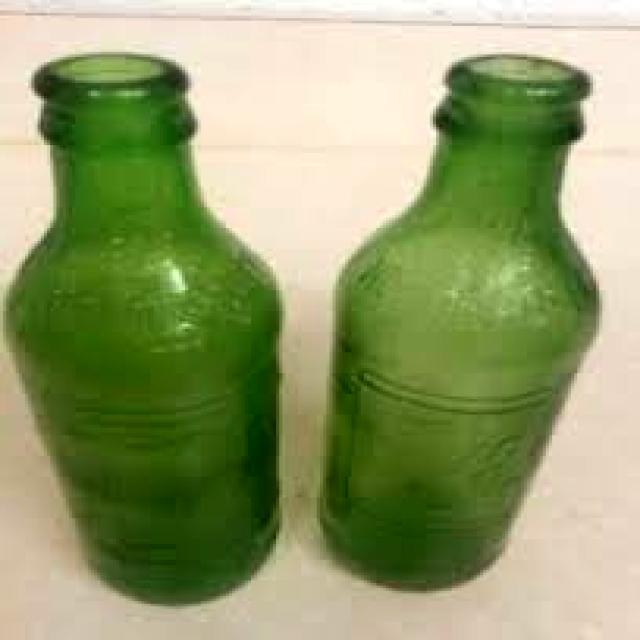Glass: (0, 47, 293, 618), (312, 45, 608, 602)
